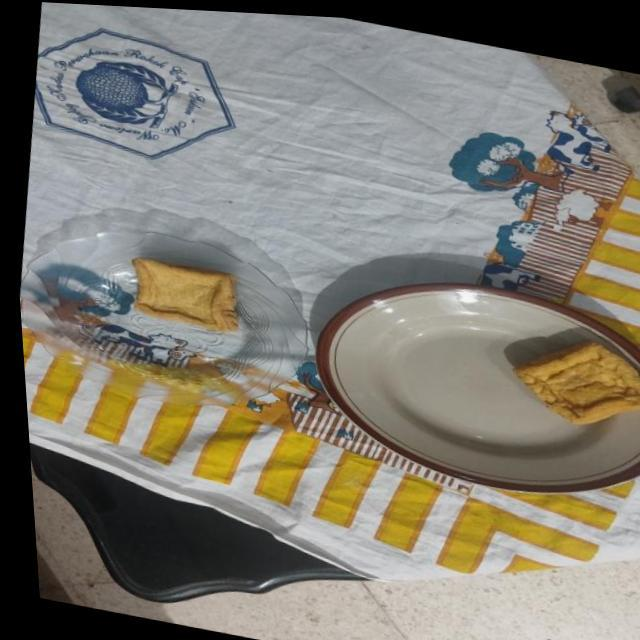tahu_goreng: (513, 342, 640, 424), (132, 258, 238, 332)
